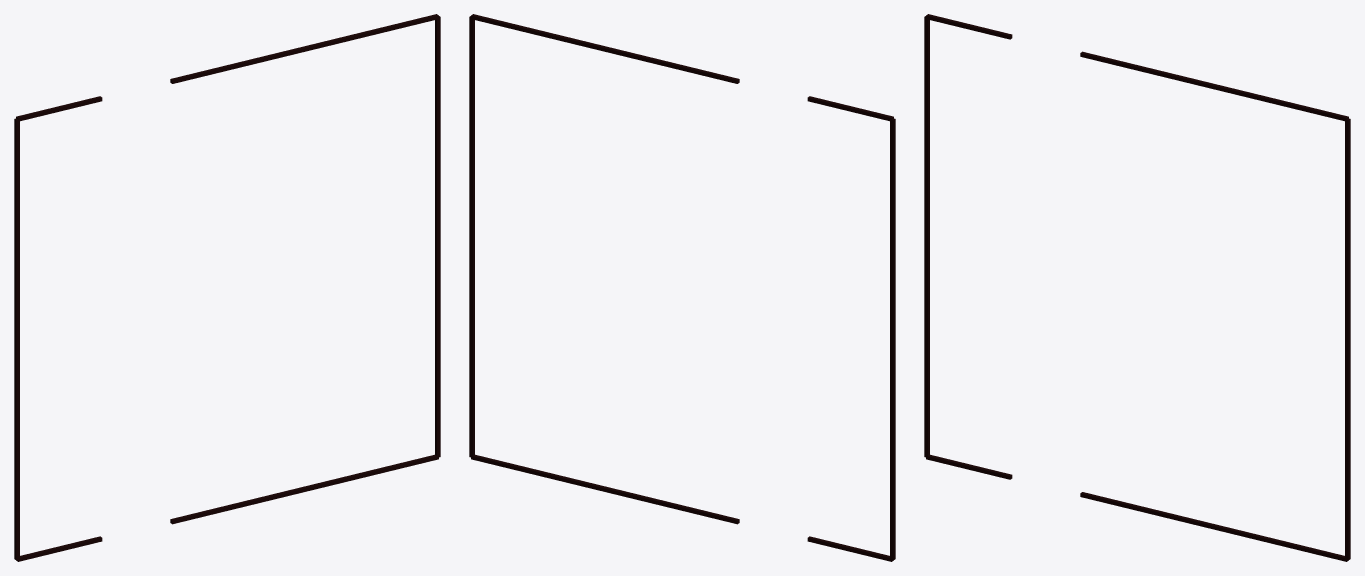
File: robocon_004.obj
3 renders of one model, left to right at view 1: azimuth 30°, elevation 25°; view 2: azimuth 150°, elevation 25°; view 3: azimuth 330°, elevation 25°, orthographic.
Size of the model in its own units: 6.05 by 6.05 by 0.05.
